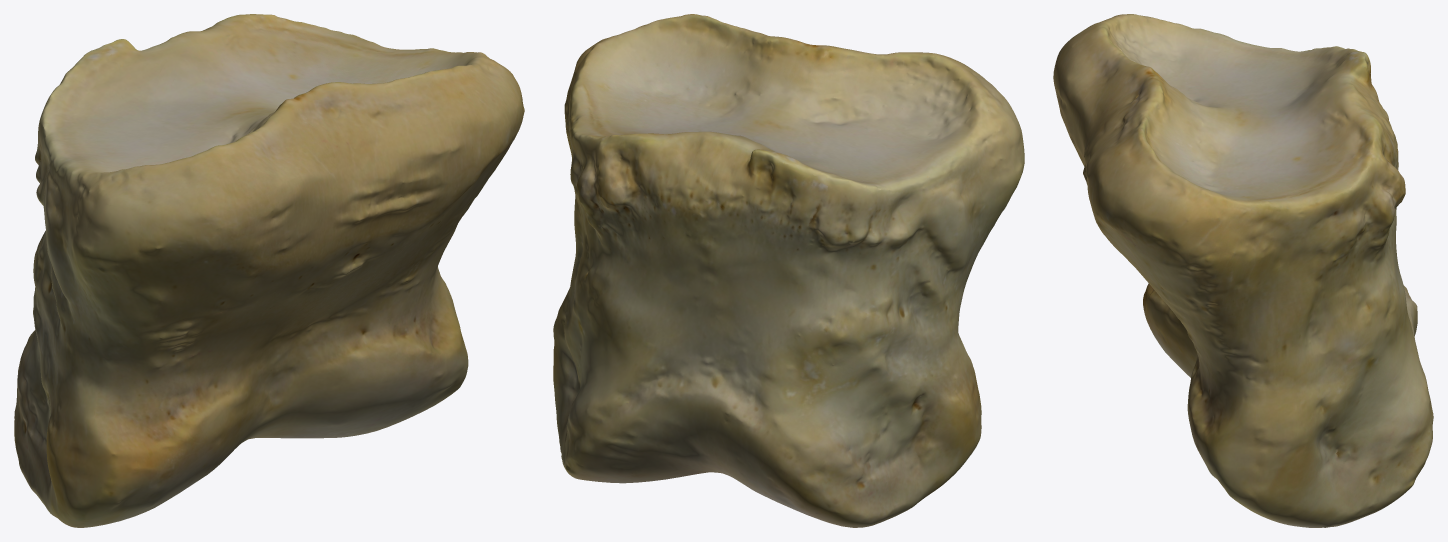
File: Middle_Phalanx-Model.glb
The picture shows the model from 3 angles, left to right: view 1: azimuth 30°, elevation 25°; view 2: azimuth 150°, elevation 25°; view 3: azimuth 270°, elevation 25°; orthographic projection. The views are drawn at different scales.
Parts seen in each view (by area): view 1: Middle Phalanx; view 2: Middle Phalanx; view 3: Middle Phalanx.
Boxes of the visible parts, box(x1,y1,x2,y2) form: Middle Phalanx: box(14, 14, 524, 527); Middle Phalanx: box(553, 14, 1024, 527); Middle Phalanx: box(1053, 14, 1433, 527).
Size of the model in its own units: 63.22 by 57.02 by 50.21.
Materials: 1 (1 with a texture image).
